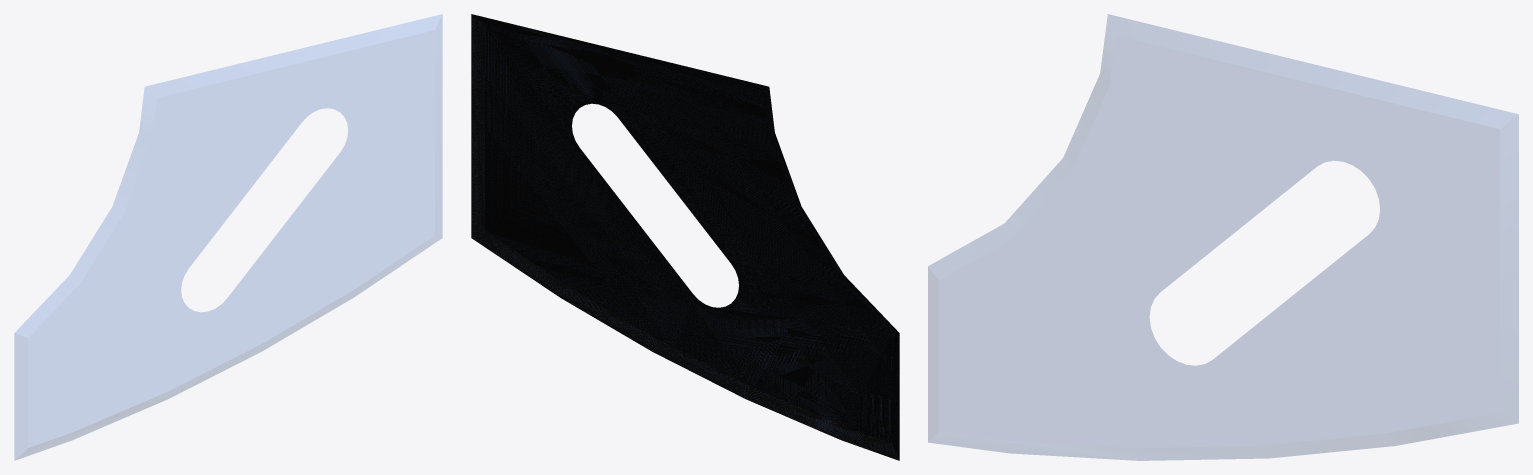
File: original-17.obj
The picture shows the model from 3 angles, left to right: view 1: azimuth 30°, elevation 25°; view 2: azimuth 150°, elevation 25°; view 3: azimuth 330°, elevation 25°; orthographic projection. The views are drawn at different scales.
Parts seen in each view (by area): view 1: 3dw.7bdffa69c49eb1d7bf653fdedcac4c5b#4/Model/mesh9/mesh9-geometr; view 2: 3dw.7bdffa69c49eb1d7bf653fdedcac4c5b#4/Model/mesh9/mesh9-geometr; view 3: 3dw.7bdffa69c49eb1d7bf653fdedcac4c5b#4/Model/mesh9/mesh9-geometr.
Boxes of the visible parts, bbox=[...] form: 3dw.7bdffa69c49eb1d7bf653fdedcac4c5b#4/Model/mesh9/mesh9-geometr: bbox=[14, 14, 442, 460]; 3dw.7bdffa69c49eb1d7bf653fdedcac4c5b#4/Model/mesh9/mesh9-geometr: bbox=[471, 14, 899, 460]; 3dw.7bdffa69c49eb1d7bf653fdedcac4c5b#4/Model/mesh9/mesh9-geometr: bbox=[928, 14, 1518, 460].
Size of the model in its own units: 0.3477 by 0.2657 by 0.00435.
